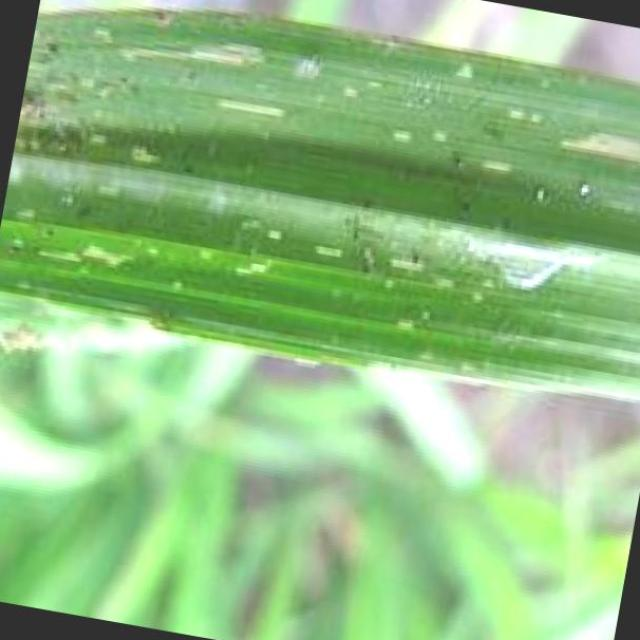leaf folder: (469, 237, 595, 289)
